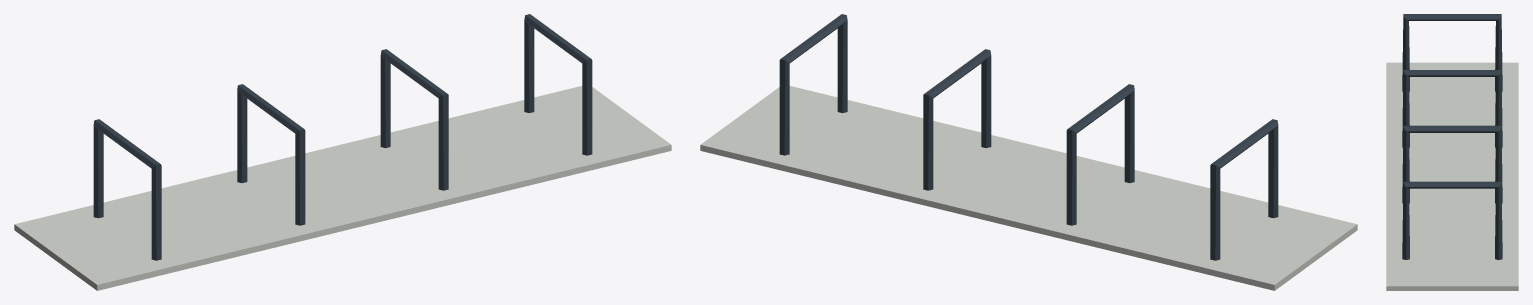
File: bicicletario.glb
3 views of the same model, side by side, from view 1: azimuth 30°, elevation 25°; view 2: azimuth 150°, elevation 25°; view 3: azimuth 270°, elevation 25° (orthographic). The views are drawn at different scales.
Visible parts, largest first — view 1: bicicletario; view 2: bicicletario; view 3: bicicletario.
Boxes of the visible parts, x1,y1,x2,y2 form: bicicletario: (14, 14, 671, 290); bicicletario: (700, 14, 1357, 290); bicicletario: (1386, 14, 1518, 290).
Size of the model in its own units: 4 by 0.6714 by 1.
